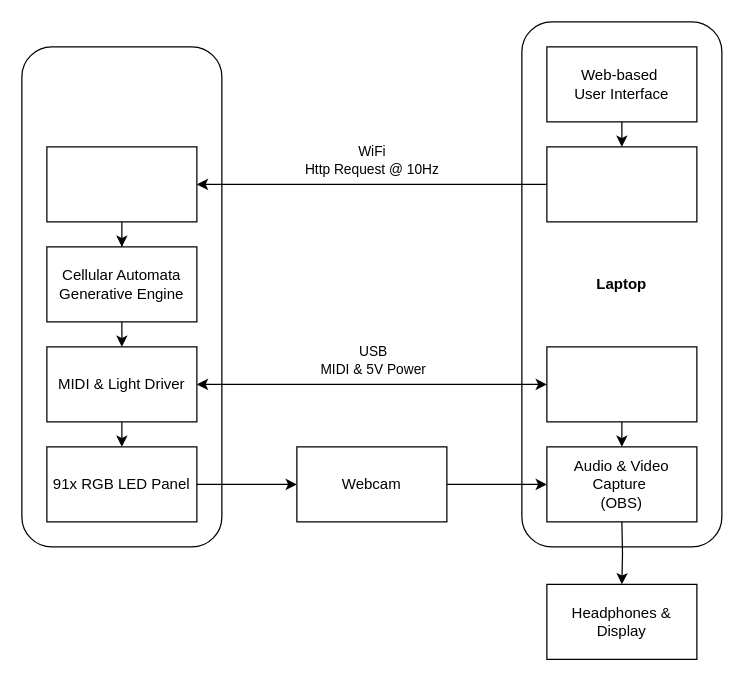
The diagram is 744 pixels wide and 681 high, and some of its shapes have lost their labels. Each missing label, with the box of its shape:
Backend: (546, 146, 697, 222)
Digital Audio Workstation (Ableton): (546, 346, 697, 422)
Embedded Controller: (46, 146, 197, 222)
TZ5 Audio-Visual Instrument: (21, 46, 222, 547)
